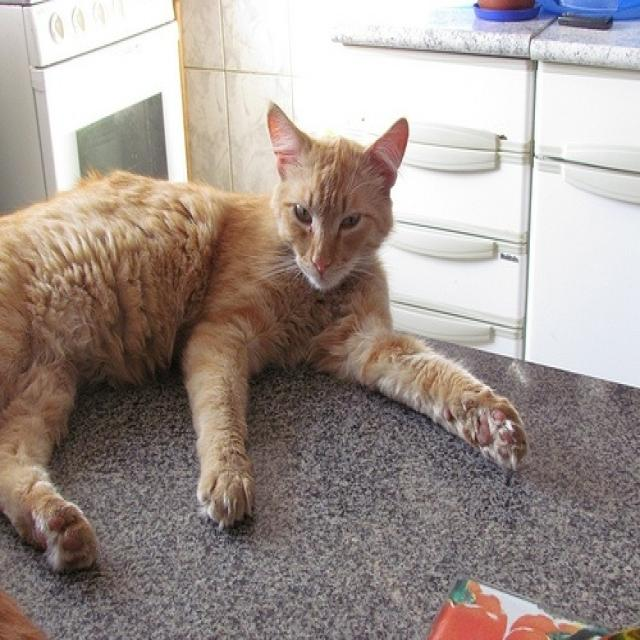Left_ear: (365, 112, 413, 185)
Left_eye: (340, 209, 362, 232)
Nouse: (311, 254, 334, 275)
Right_ear: (266, 101, 314, 179)
Right_eye: (293, 199, 315, 226)
